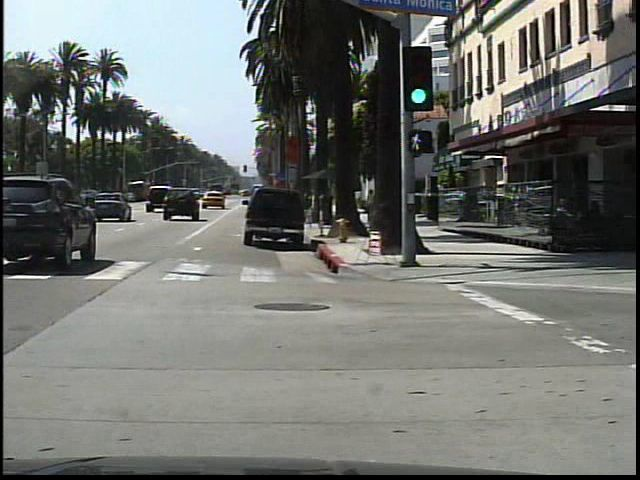person: (366, 185, 379, 226)
